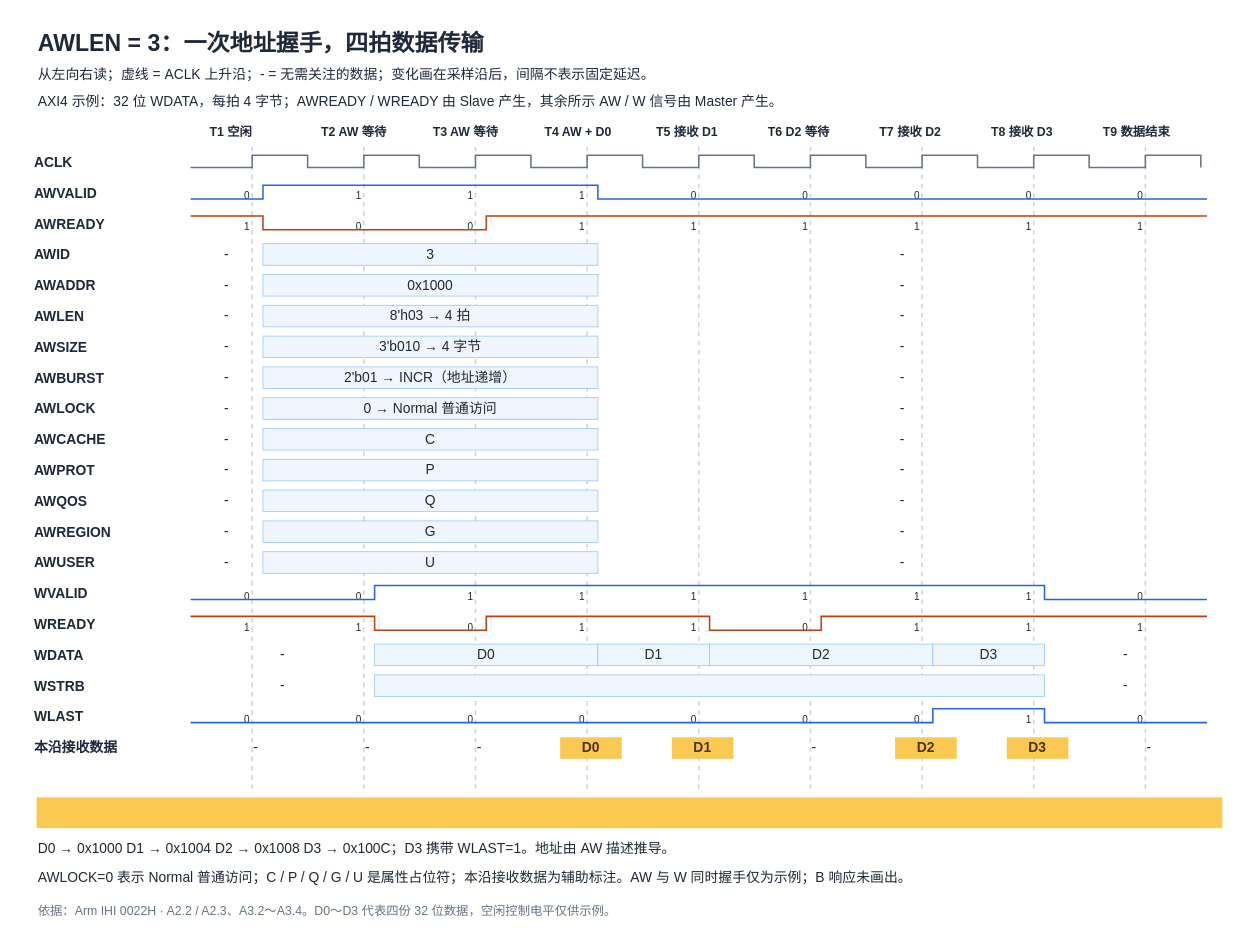
The diagram is 1258 pixels wide and 950 high, and some of its shapes have lost their labels. The shapes that lost their labels are listed below. From the top down, each one's box as (x1, y1, x2, y2) in pixels, then its label:
(374, 674, 1045, 696): 4'b1111 → 4字节全部有效
(36, 797, 1222, 828): 只数 WVALID 与 WREADY 同为 1 的采样沿：T4 / T5 / T7 / T8，共 4 拍。T6 等待，不增加拍数。
